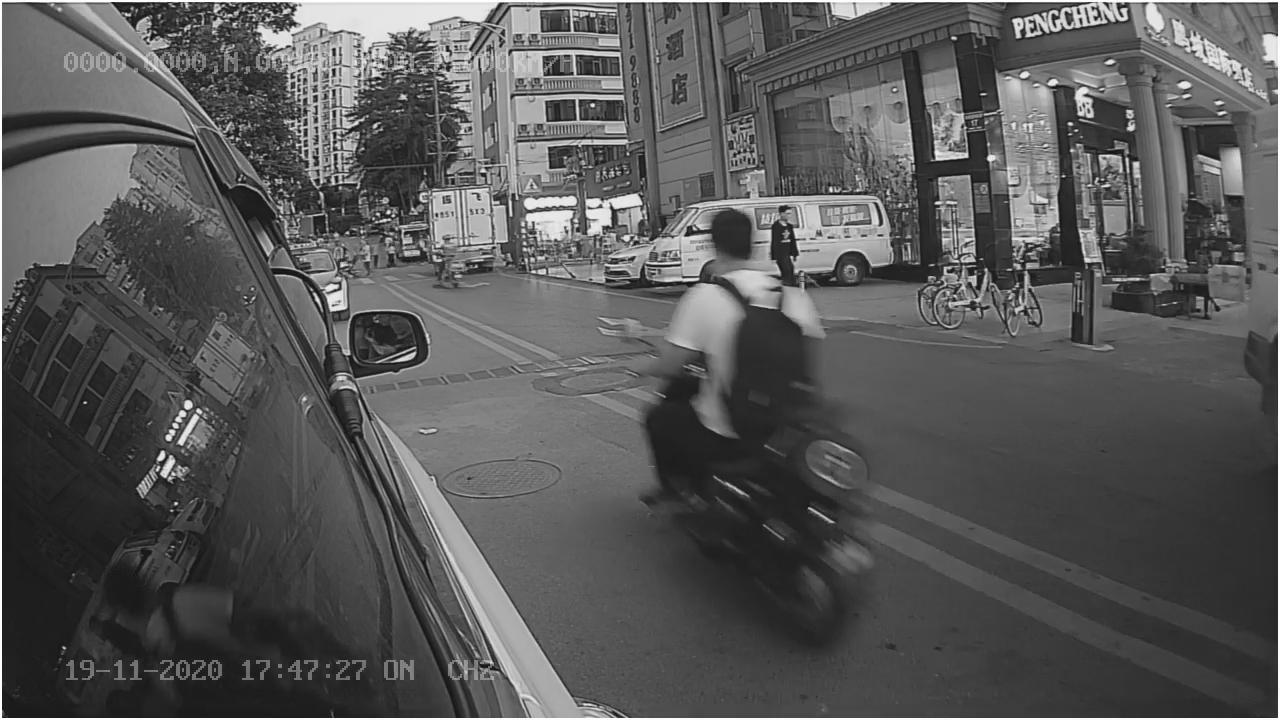person: (669, 215, 817, 428)
